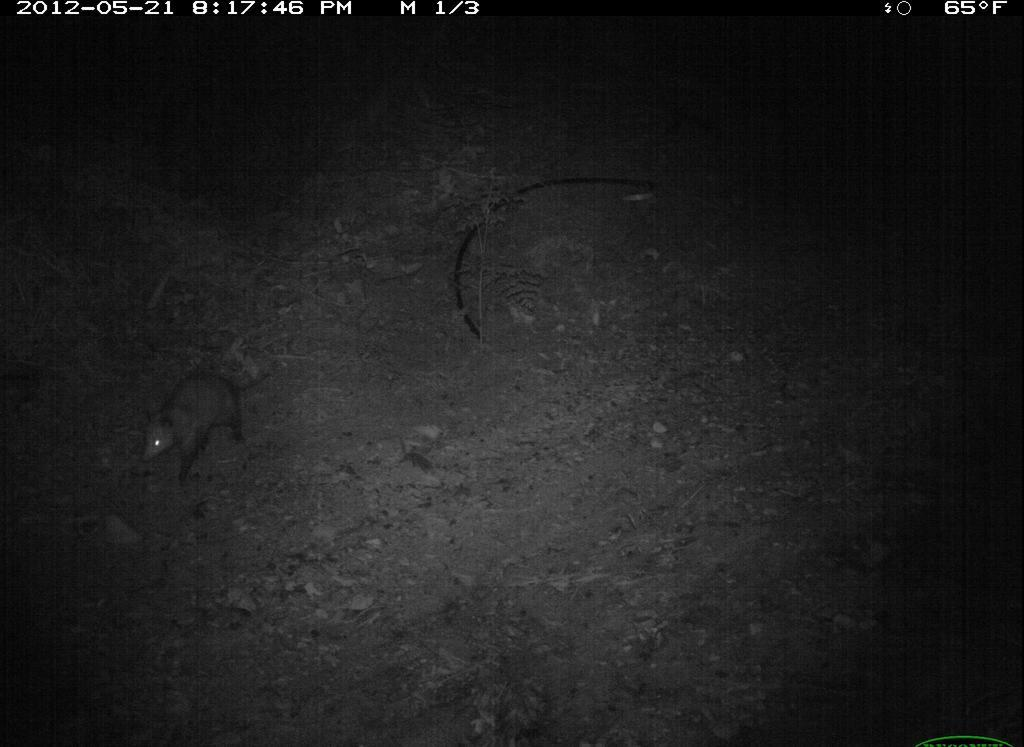opossum: (114, 353, 283, 496)
